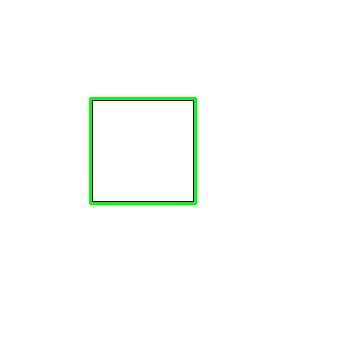line_segment: (89, 97, 197, 205)
